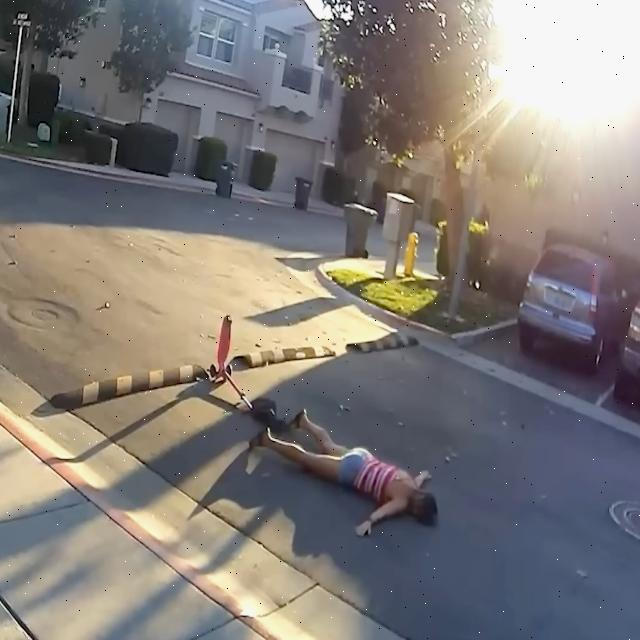fallen: (249, 410, 438, 536)
